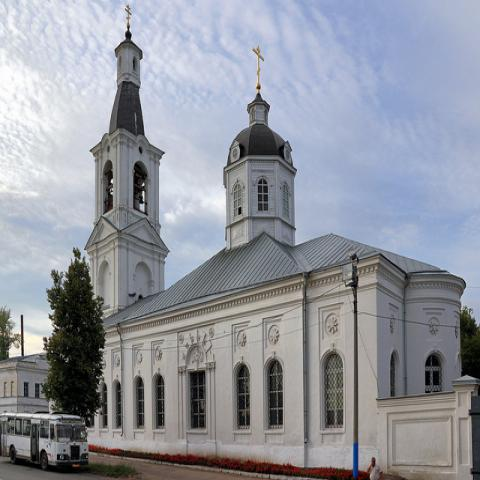bus: (0, 410, 89, 469)
